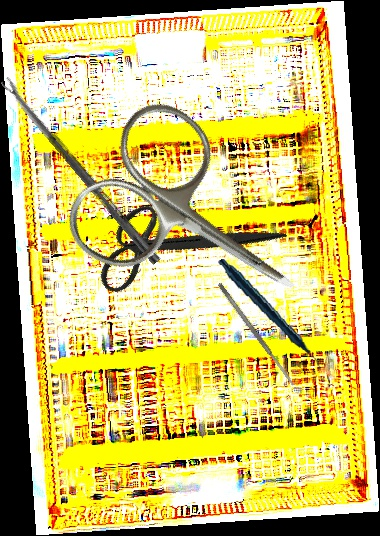Handpiece: (217, 249, 322, 382)
Iris Scissors: (53, 88, 342, 361), (77, 143, 289, 347)
Spatula Surgical: (216, 281, 297, 389)
Surgical Spoon: (0, 75, 162, 266)
